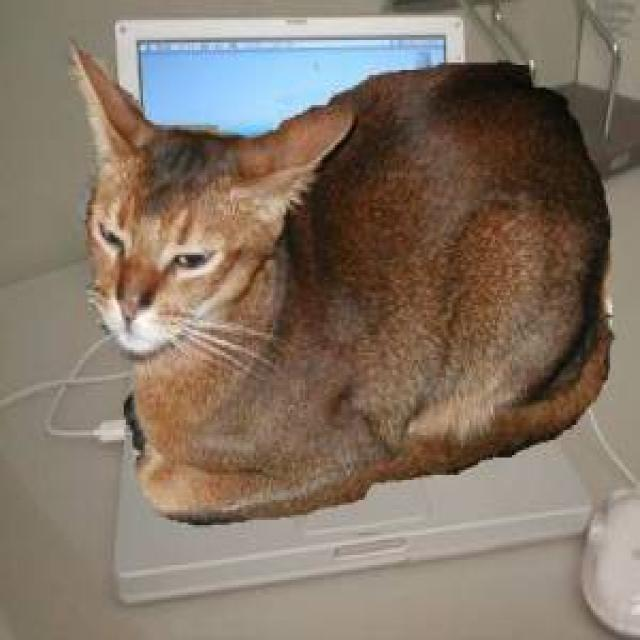Abyssinian: (69, 41, 360, 360)
